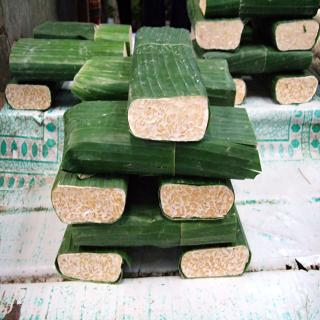Tempe: (61, 99, 263, 180), (52, 171, 129, 225), (128, 96, 210, 142), (203, 44, 314, 75), (160, 181, 236, 221), (72, 57, 133, 101), (180, 246, 251, 280), (58, 253, 124, 285), (197, 58, 237, 107), (195, 19, 245, 51), (273, 19, 320, 52), (271, 75, 319, 106), (240, 1, 320, 18), (6, 84, 52, 112), (95, 23, 134, 56), (34, 22, 98, 42), (199, 1, 241, 17), (233, 78, 247, 106)
